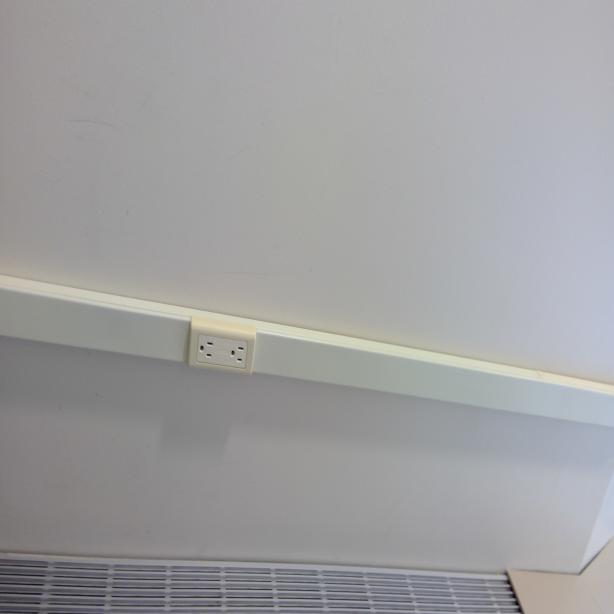typeb: (196, 332, 216, 365), (230, 340, 249, 370)
